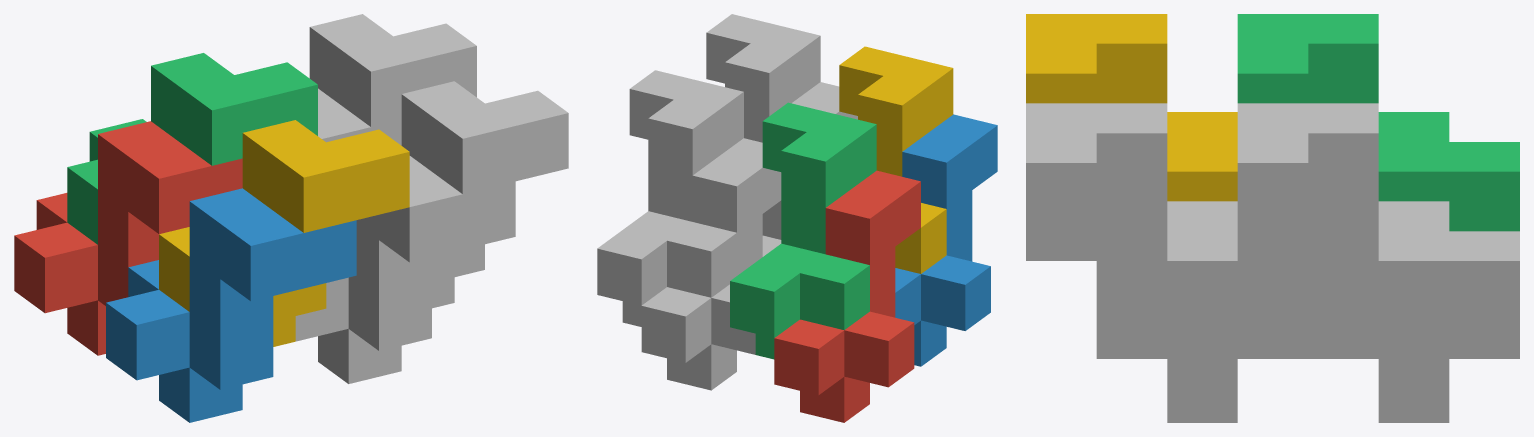
Rendered from tiling.obj.
3 renders of one model, left to right at view 1: azimuth 30°, elevation 25°; view 2: azimuth 150°, elevation 25°; view 3: azimuth 270°, elevation 25°, orthographic. The views are drawn at different scales.
Visible parts, largest first — view 1: copy_1_domain_2, copy_1_domain_1, copy_1_domain_6, copy_1_domain_4, copy_1_domain_8, copy_1_domain_3, copy_1_domain_7, copy_1_domain_5; view 2: copy_1_domain_3, copy_1_domain_7, copy_1_domain_1, copy_1_domain_5, copy_1_domain_2, copy_1_domain_4, copy_1_domain_8, copy_1_domain_6; view 3: copy_1_domain_7, copy_1_domain_8, copy_1_domain_3, copy_1_domain_4, copy_1_domain_5, copy_1_domain_6.
Part boxes in pixels (<box>): copy_1_domain_2: <box>106,188,356,422</box>; copy_1_domain_1: <box>14,121,242,355</box>; copy_1_domain_6: <box>295,156,515,383</box>; copy_1_domain_4: <box>159,120,409,346</box>; copy_1_domain_8: <box>401,81,568,308</box>; copy_1_domain_3: <box>67,53,317,244</box>; copy_1_domain_7: <box>309,14,476,126</box>; copy_1_domain_5: <box>318,88,401,145</box>; copy_1_domain_3: <box>730,102,876,359</box>; copy_1_domain_7: <box>597,70,743,326</box>; copy_1_domain_1: <box>774,170,920,422</box>; copy_1_domain_5: <box>641,138,781,390</box>; copy_1_domain_2: <box>895,114,997,366</box>; copy_1_domain_4: <box>839,46,953,273</box>; copy_1_domain_8: <box>706,14,820,239</box>; copy_1_domain_6: <box>762,82,857,256</box>; copy_1_domain_7: <box>1237,103,1519,388</box>; copy_1_domain_8: <box>1026,103,1308,388</box>; copy_1_domain_3: <box>1237,14,1519,231</box>; copy_1_domain_4: <box>1026,14,1237,201</box>; copy_1_domain_5: <box>1237,227,1519,422</box>; copy_1_domain_6: <box>1026,227,1308,422</box>.
Bounding box in the file's own units: 7 × 5 × 7.
